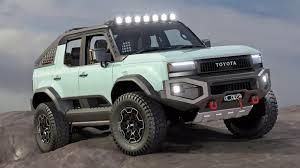toyota: (215, 59, 242, 68)
